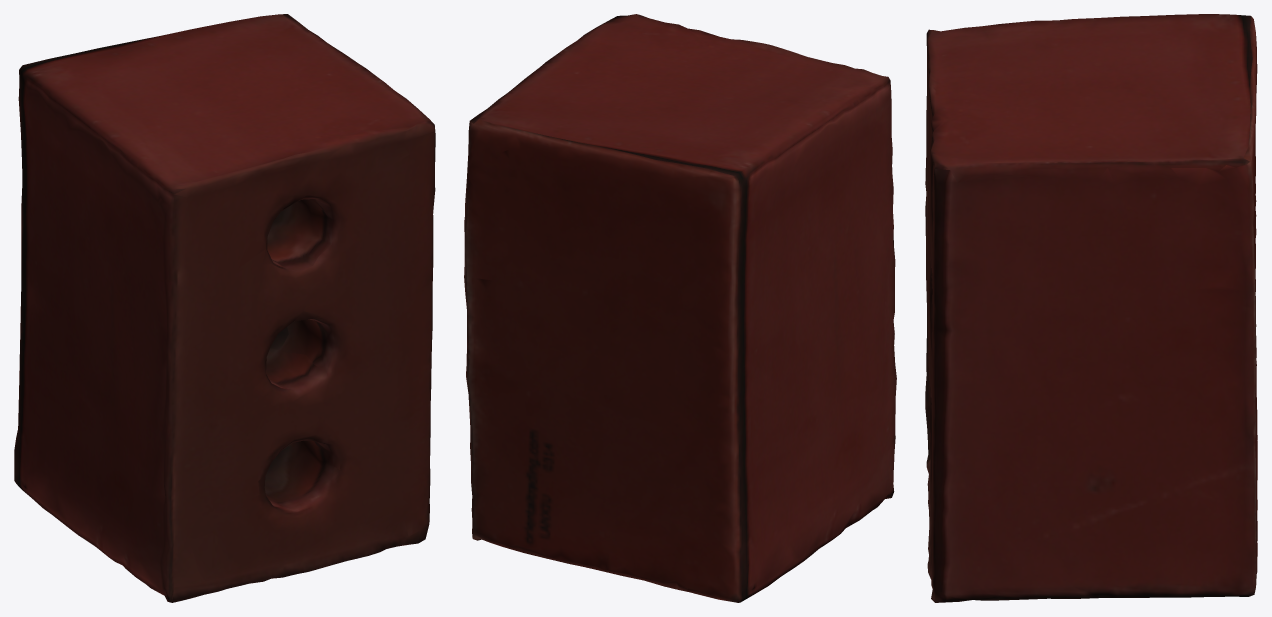
The picture shows the model from 3 angles, left to right: view 1: azimuth 30°, elevation 25°; view 2: azimuth 150°, elevation 25°; view 3: azimuth 270°, elevation 25°; orthographic projection. The views are drawn at different scales.
Parts seen in each view (by area): view 1: textured.016; view 2: textured.016; view 3: textured.016.
Boxes of the visible parts, x1,y1,x2,y2 form: textured.016: [14, 14, 435, 602]; textured.016: [464, 14, 896, 602]; textured.016: [925, 14, 1257, 602].
Size of the model in its own units: 0.0526 by 0.0779 by 0.0511.
1 material, 1 textured.
